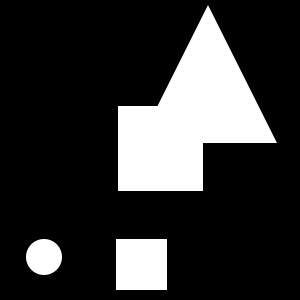circle: (118, 106, 203, 191), (116, 239, 167, 290)
rectangle: (26, 239, 62, 275)
triangle: (139, 5, 277, 143)
